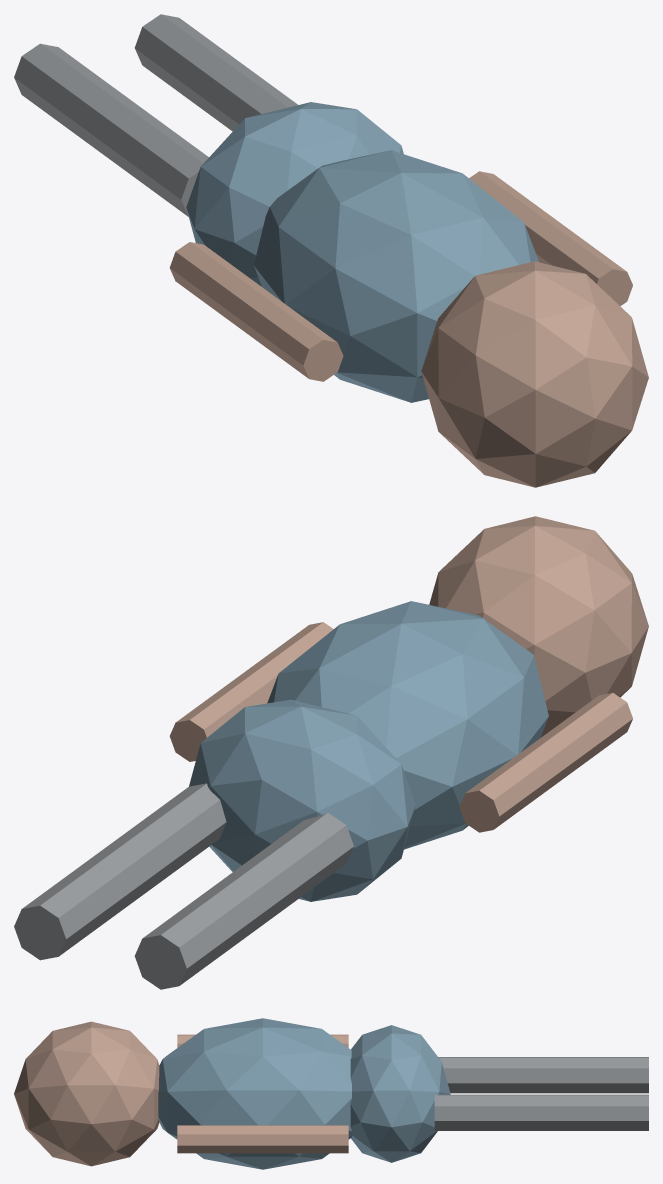
File: child-low.glb
The picture shows the model from 3 angles, top to bottom: view 1: azimuth 30°, elevation 25°; view 2: azimuth 150°, elevation 25°; view 3: azimuth 270°, elevation 25°; orthographic projection. The views are drawn at different scales.
Parts seen in each view (by area): view 1: torso, head, pelvis, left_leg, left_arm, right_leg, right_arm; view 2: torso, pelvis, head, left_leg, right_leg, left_arm, right_arm; view 3: torso, head, pelvis, right_leg, left_leg, right_arm, left_arm.
Boxes of the visible parts, x1=… form: torso: x1=254, y1=150, x2=538, y2=402; head: x1=421, y1=261, x2=648, y2=487; pelvis: x1=186, y1=102, x2=403, y2=286; left_leg: x1=14, y1=43, x2=208, y2=216; left_arm: x1=169, y1=242, x2=343, y2=381; right_leg: x1=134, y1=14, x2=297, y2=131; right_arm: x1=469, y1=171, x2=632, y2=306; torso: x1=267, y1=601, x2=548, y2=849; pelvis: x1=189, y1=699, x2=415, y2=901; head: x1=429, y1=516, x2=648, y2=737; left_leg: x1=134, y1=813, x2=353, y2=989; right_leg: x1=14, y1=783, x2=226, y2=960; left_arm: x1=459, y1=693, x2=632, y2=832; right_arm: x1=169, y1=622, x2=333, y2=761; torso: x1=158, y1=1018, x2=351, y2=1169; head: x1=14, y1=1021, x2=159, y2=1166; pelvis: x1=350, y1=1025, x2=450, y2=1162; right_leg: x1=434, y1=1094, x2=648, y2=1130; left_leg: x1=438, y1=1057, x2=648, y2=1093; right_arm: x1=177, y1=1125, x2=348, y2=1153; left_arm: x1=177, y1=1034, x2=348, y2=1047.
Size of the model in its own units: 0.82 by 0.4928 by 2.13.
